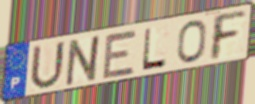E: (101, 29, 139, 81)
F: (211, 9, 248, 63)
L: (140, 26, 169, 72)
N: (63, 32, 105, 88)
O: (176, 18, 208, 64)
U: (28, 39, 67, 92)
